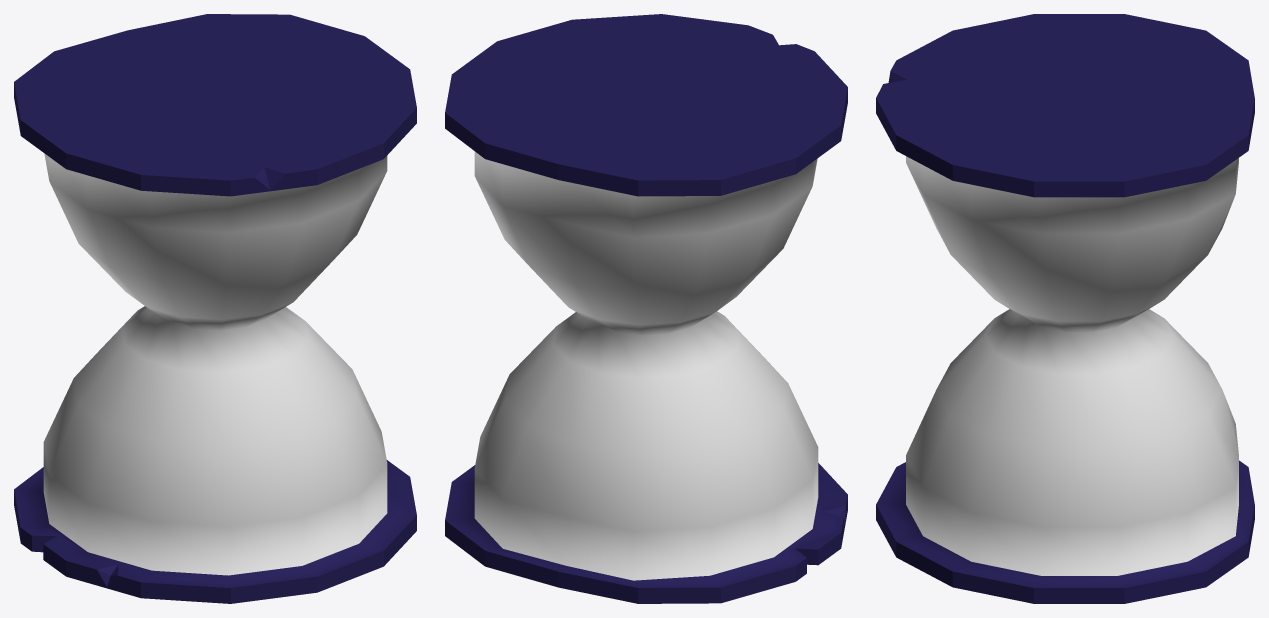
File: HourGlass.fbx
The picture shows the model from 3 angles, left to right: view 1: azimuth 30°, elevation 25°; view 2: azimuth 150°, elevation 25°; view 3: azimuth 270°, elevation 25°; orthographic projection.
Parts seen in each view (by area): view 1: Cylinder.019; view 2: Cylinder.019; view 3: Cylinder.019.
Boxes of the visible parts, <box> form: Cylinder.019: <box>14,14,416,603</box>; Cylinder.019: <box>445,14,847,603</box>; Cylinder.019: <box>876,14,1254,603</box>.
Size of the model in its own units: 1.03 by 1.21 by 0.9819.
